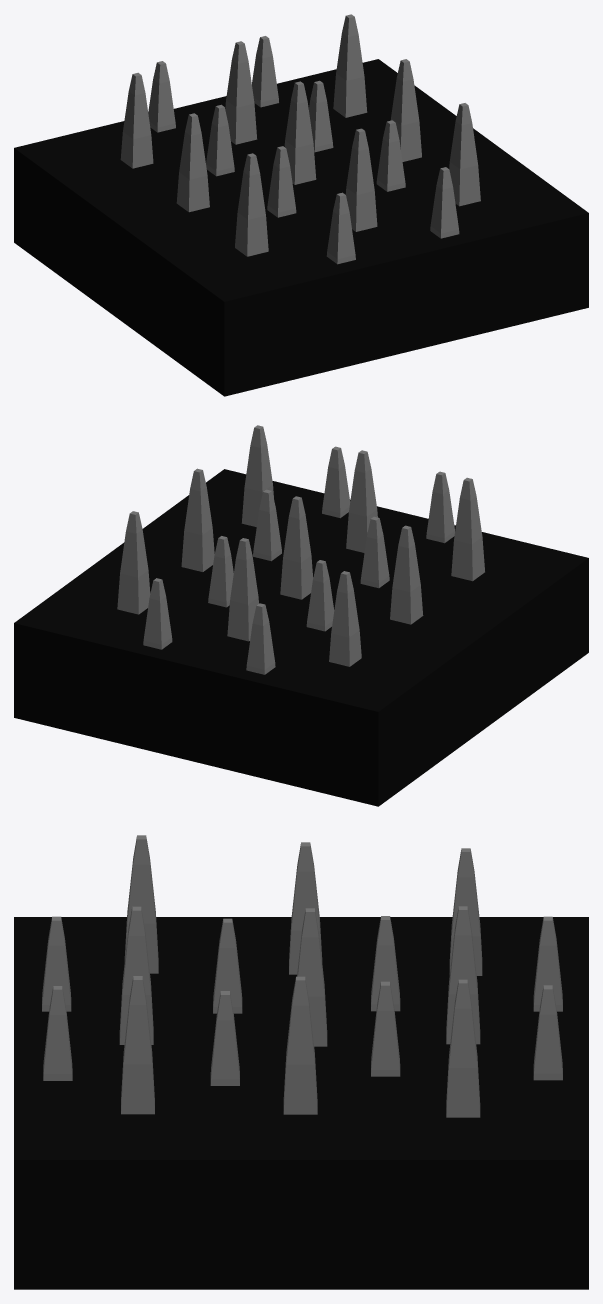
Rendered from Spikes.fbx.
3 views of the same model, one above another, from view 1: azimuth 30°, elevation 25°; view 2: azimuth 150°, elevation 25°; view 3: azimuth 270°, elevation 25° (orthographic). The views are drawn at different scales.
Parts seen in each view (by area): view 1: Spikes; view 2: Spikes; view 3: Spikes.
Boxes of the visible parts, x1,y1,x2,y2 form: Spikes: (14, 14, 588, 396); Spikes: (14, 425, 588, 806); Spikes: (14, 835, 588, 1289).
Size of the model in its own units: 2 by 0.9922 by 2.
